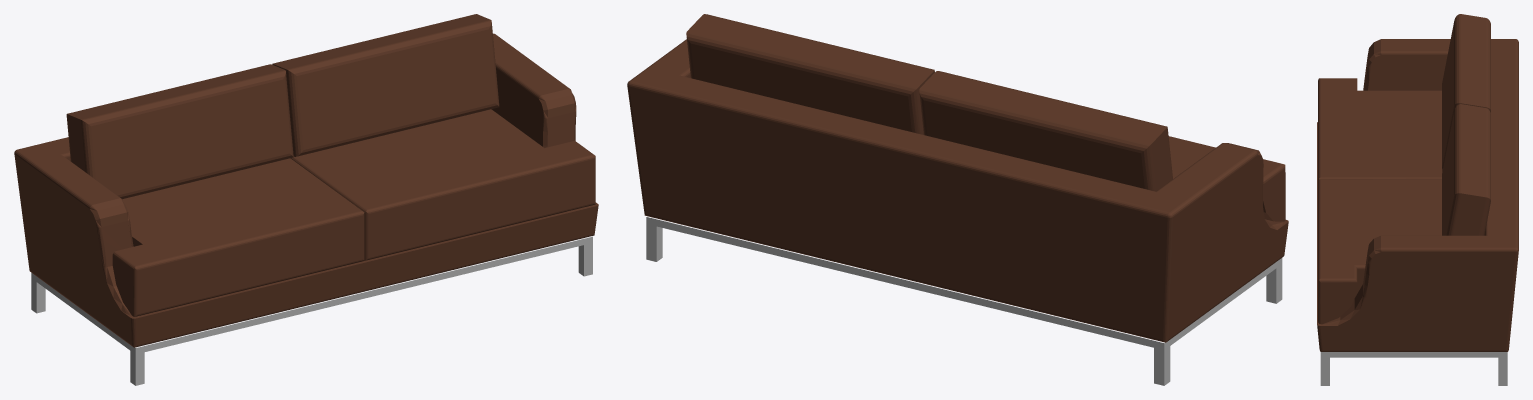
File: couch-by-cmht-oculus-7pkUt5H1rw9.glb
The picture shows the model from 3 angles, left to right: view 1: azimuth 30°, elevation 25°; view 2: azimuth 150°, elevation 25°; view 3: azimuth 270°, elevation 25°; orthographic projection. The views are drawn at different scales.
Parts seen in each view (by area): view 1: Node; view 2: Node; view 3: Node.
Part boxes in pixels (box(x1,y1,x2,y2)): Node: box(14, 14, 598, 385); Node: box(627, 14, 1288, 385); Node: box(1317, 14, 1518, 385).
Bounding box in the file's own units: 80.02 × 32.25 × 32.37.
